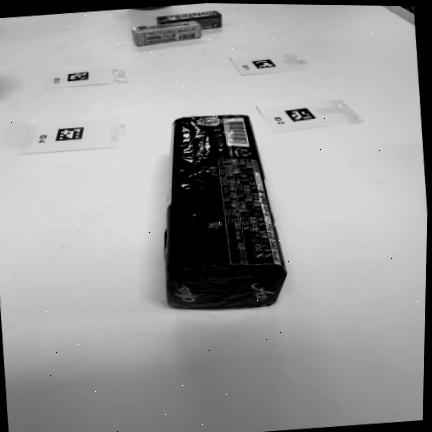cracker_ace: (165, 116, 286, 309)
